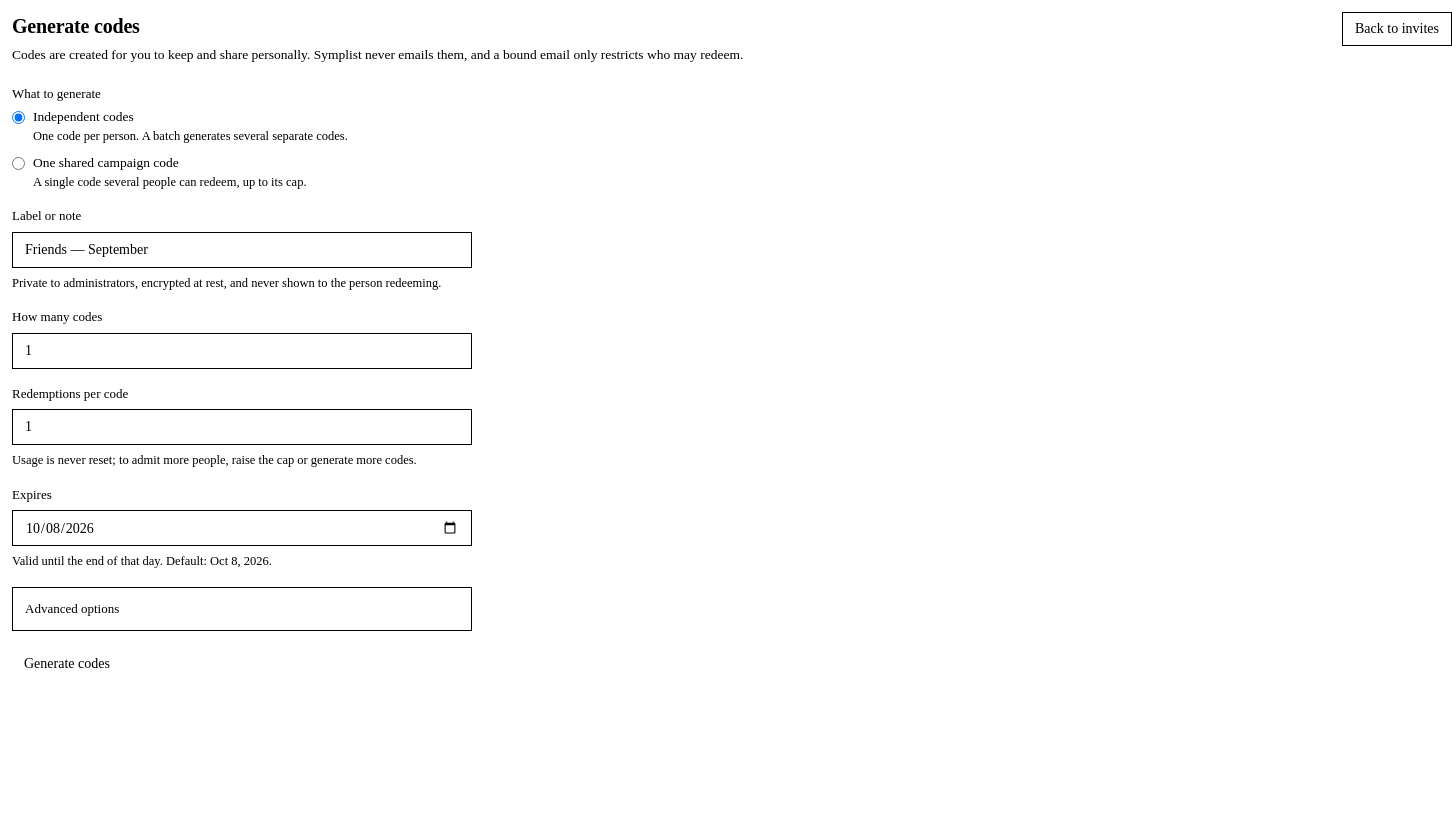
Test: generating invite codes (admin_invite_create.md) › refuses an expiry in the past or beyond a year
Type "2020-01-01" into the date field labelled "Expires" at (242, 528), box [12,510,472,546]
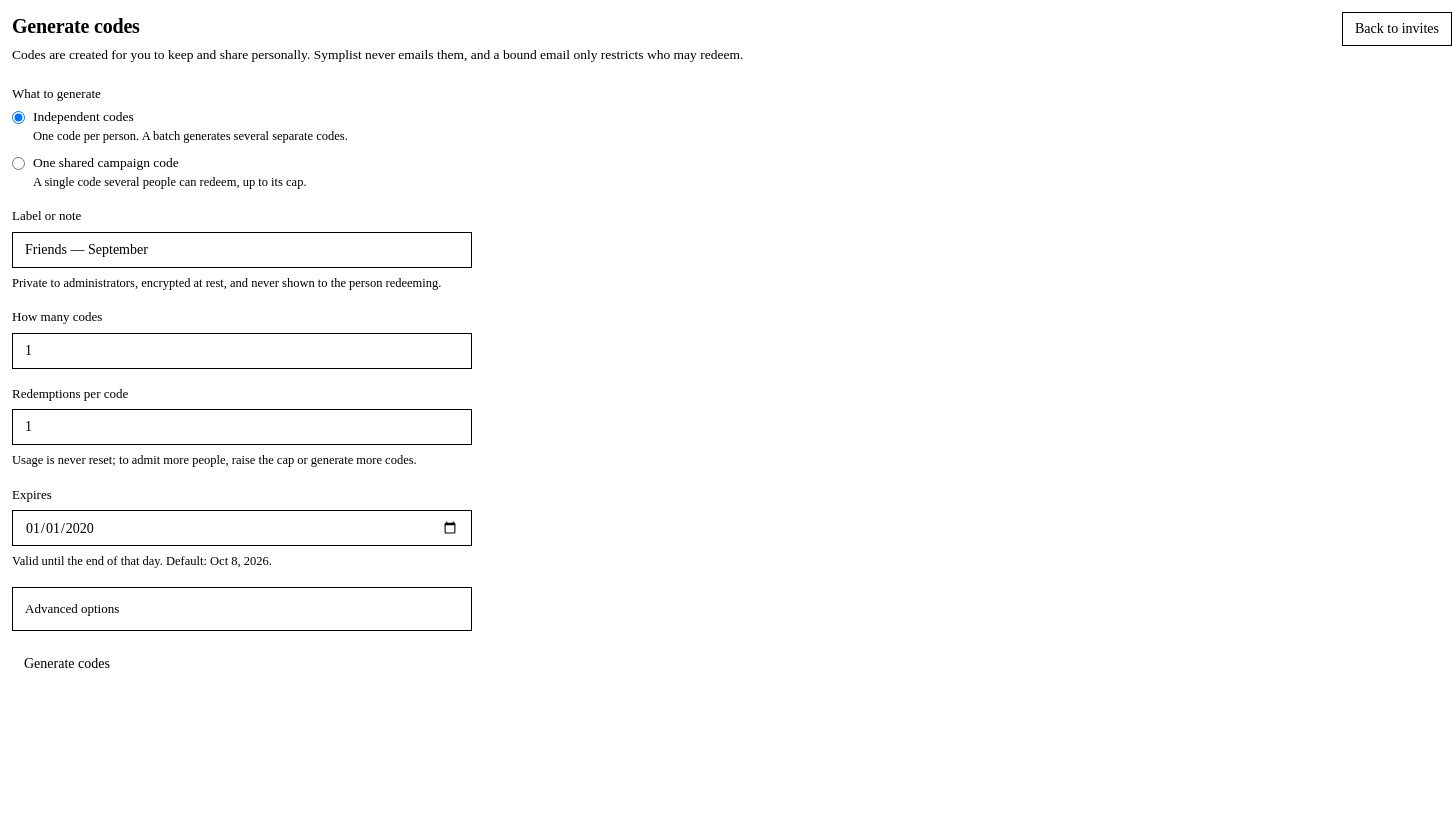
Click the button "Generate codes" at (67, 664), box [12,647,122,681]
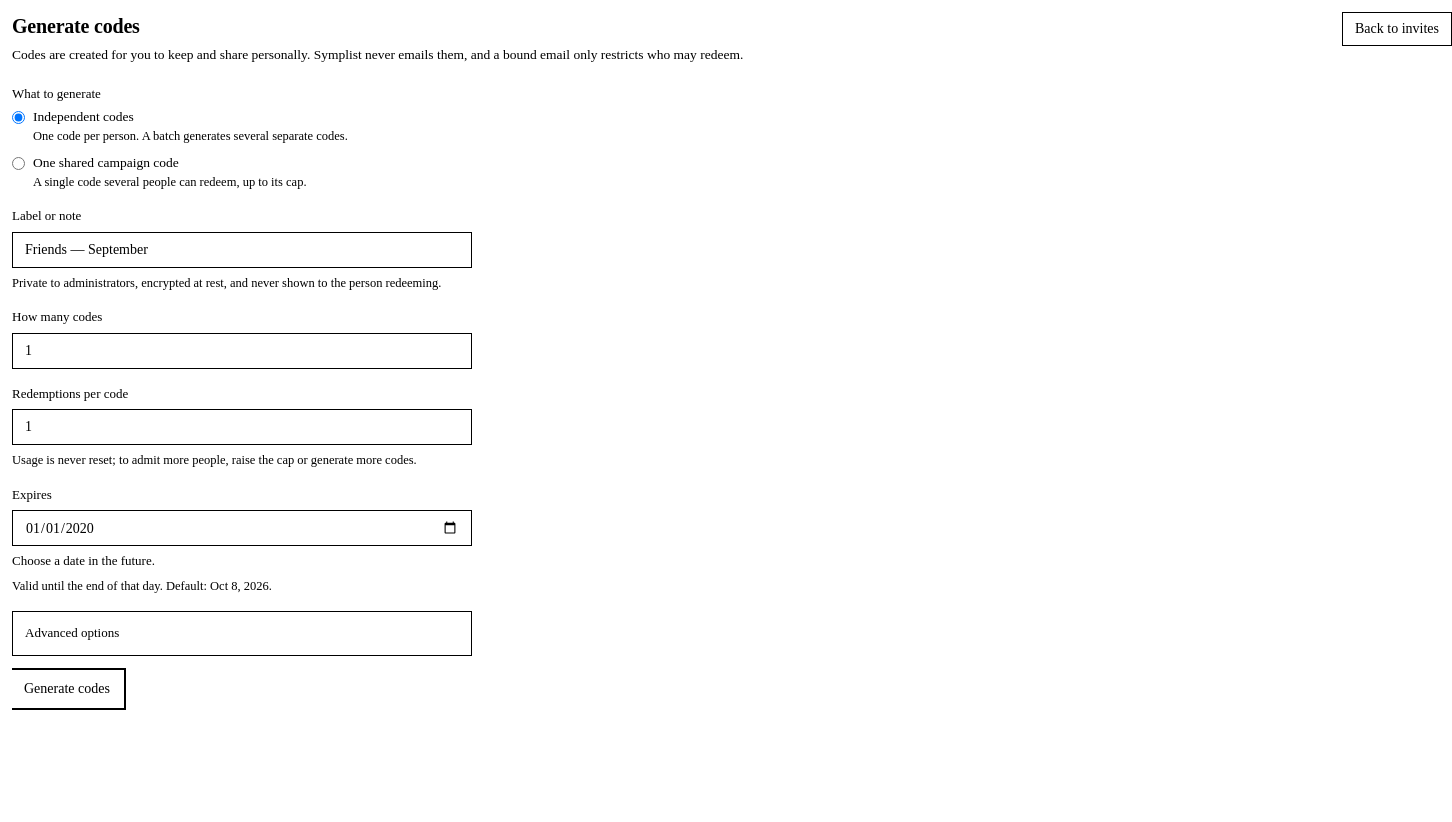
Now the text "Choose a date in the future." is shown, box [12,553,155,568]
